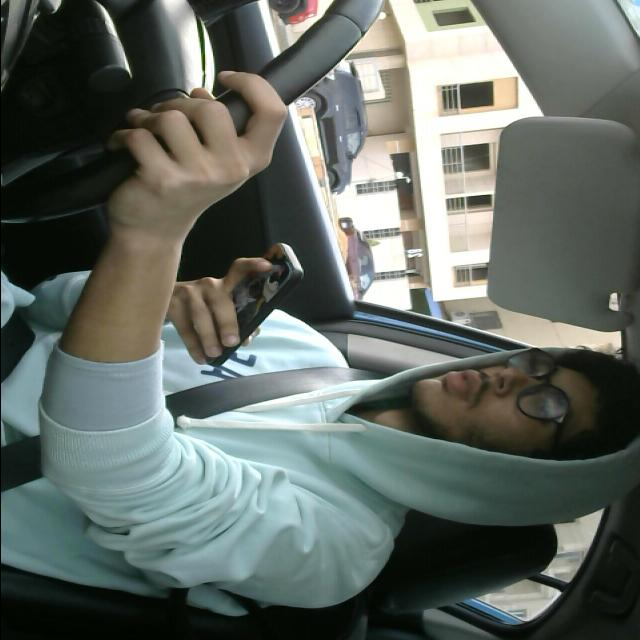mobile use: (191, 235, 305, 364)
